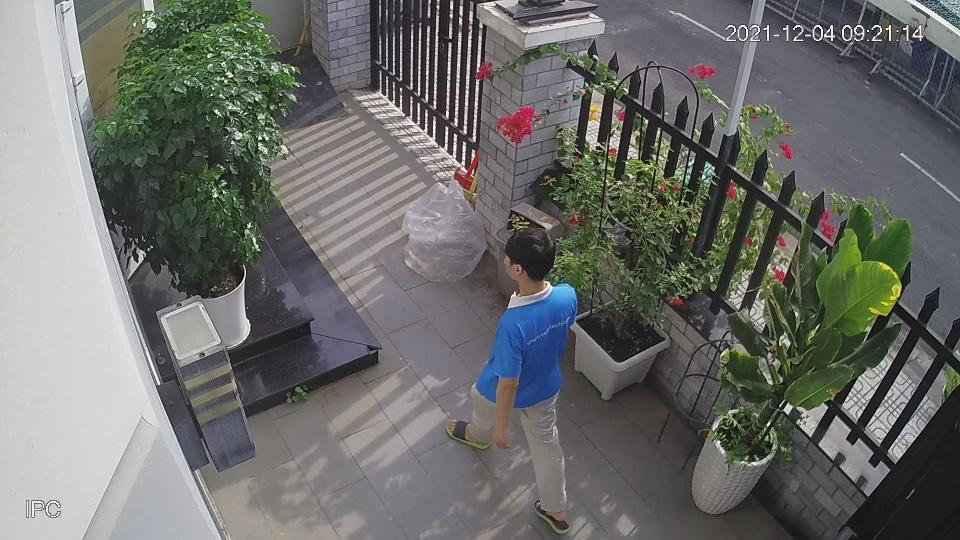person: (448, 223, 577, 533)
